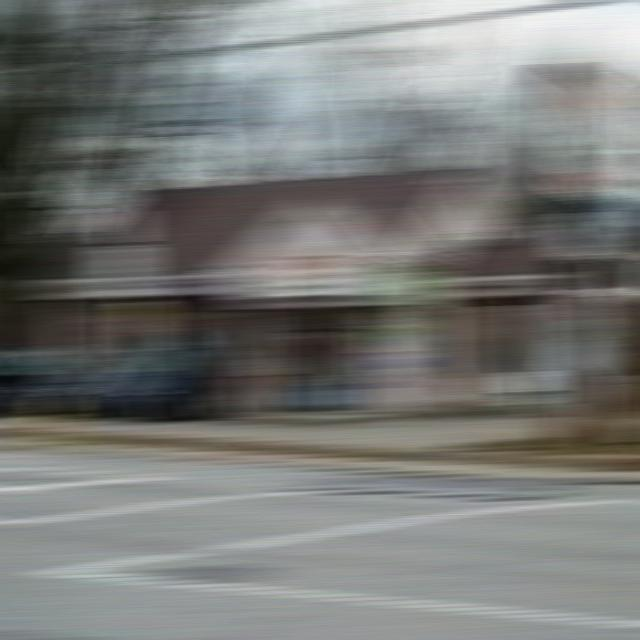speedLimit40: (96, 244, 147, 293)
